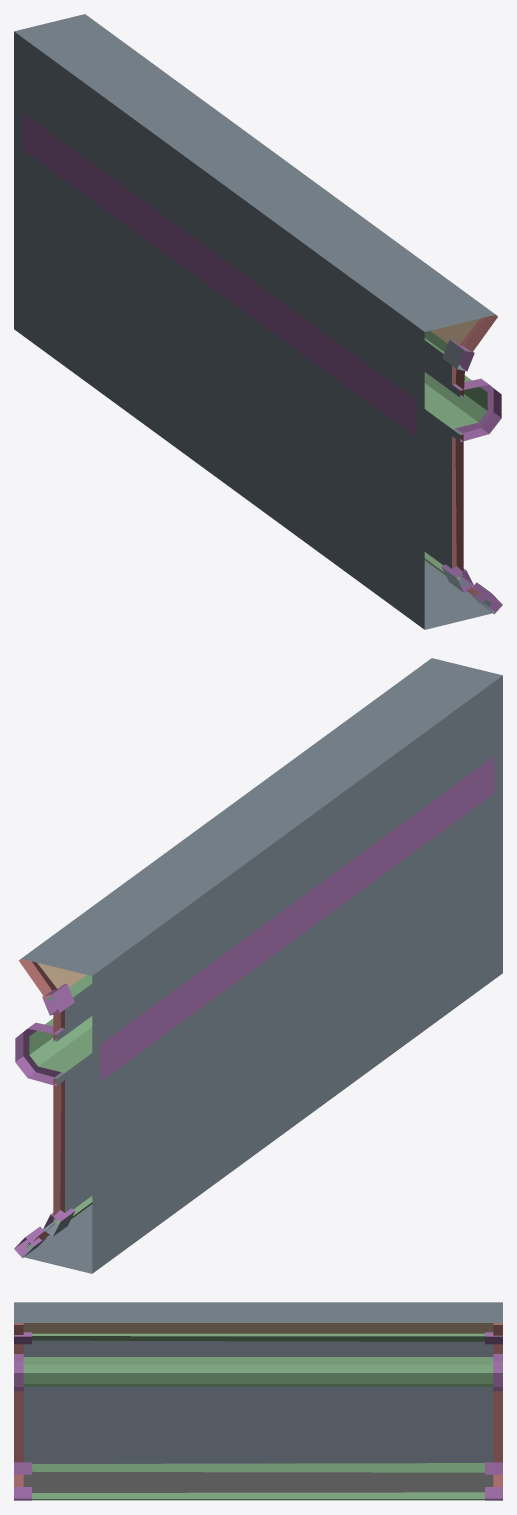
Rendered from Wall.fbx.
The picture shows the model from 3 angles, top to bottom: view 1: azimuth 30°, elevation 25°; view 2: azimuth 150°, elevation 25°; view 3: azimuth 270°, elevation 25°; orthographic projection. The views are drawn at different scales.
Parts seen in each view (by area): view 1: pCube8; view 2: pCube8; view 3: pCube8.
Part boxes in pixels (x1,y1,x2,y2): pCube8: [14, 14, 502, 629]; pCube8: [14, 658, 502, 1273]; pCube8: [14, 1302, 502, 1500].
Size of the model in its own units: 110 by 402 by 1000.
